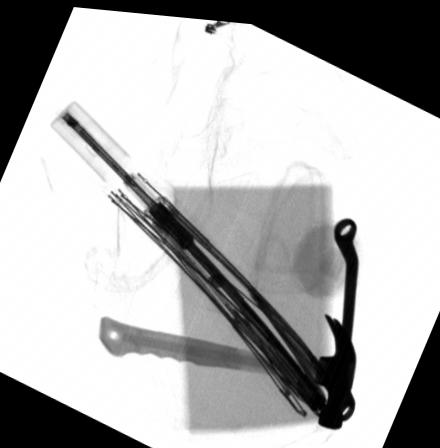Hammer: (95, 306, 356, 422)
Wrench: (331, 211, 358, 414)
